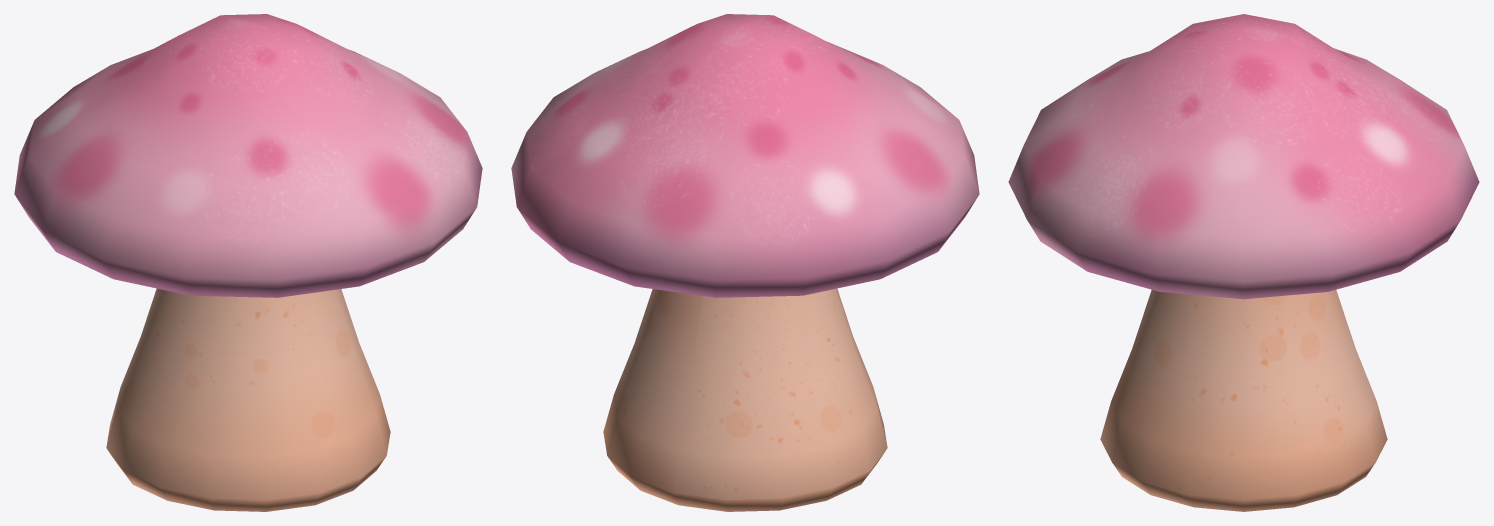
The model's file is MyceliumB.fbx.
The picture shows the model from 3 angles, left to right: view 1: azimuth 30°, elevation 25°; view 2: azimuth 150°, elevation 25°; view 3: azimuth 270°, elevation 25°; orthographic projection.
Parts seen in each view (by area): view 1: MyceliumParentB; view 2: MyceliumParentB; view 3: MyceliumParentB.
Boxes of the visible parts, x1=… form: MyceliumParentB: x1=14, y1=14, x2=482, y2=511; MyceliumParentB: x1=511, y1=14, x2=979, y2=511; MyceliumParentB: x1=1008, y1=14, x2=1479, y2=511.
Size of the model in its own units: 19.58 by 19.84 by 19.58.
